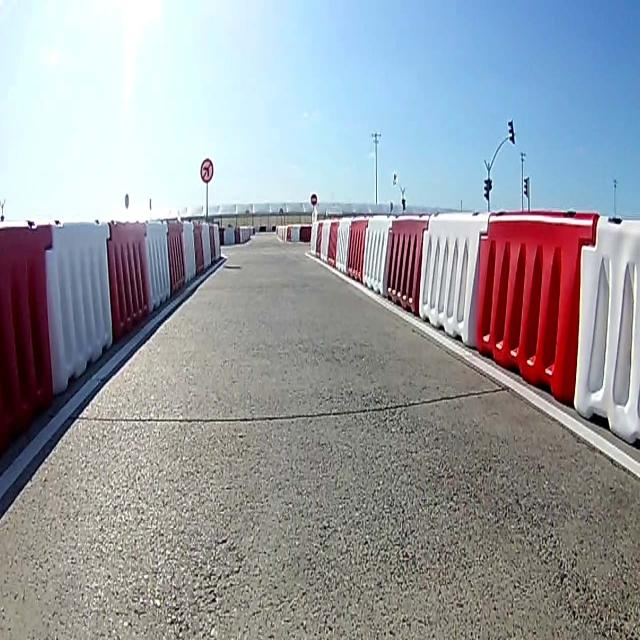girisyok: (310, 193, 318, 203)
soladonulmez: (200, 157, 214, 186)
